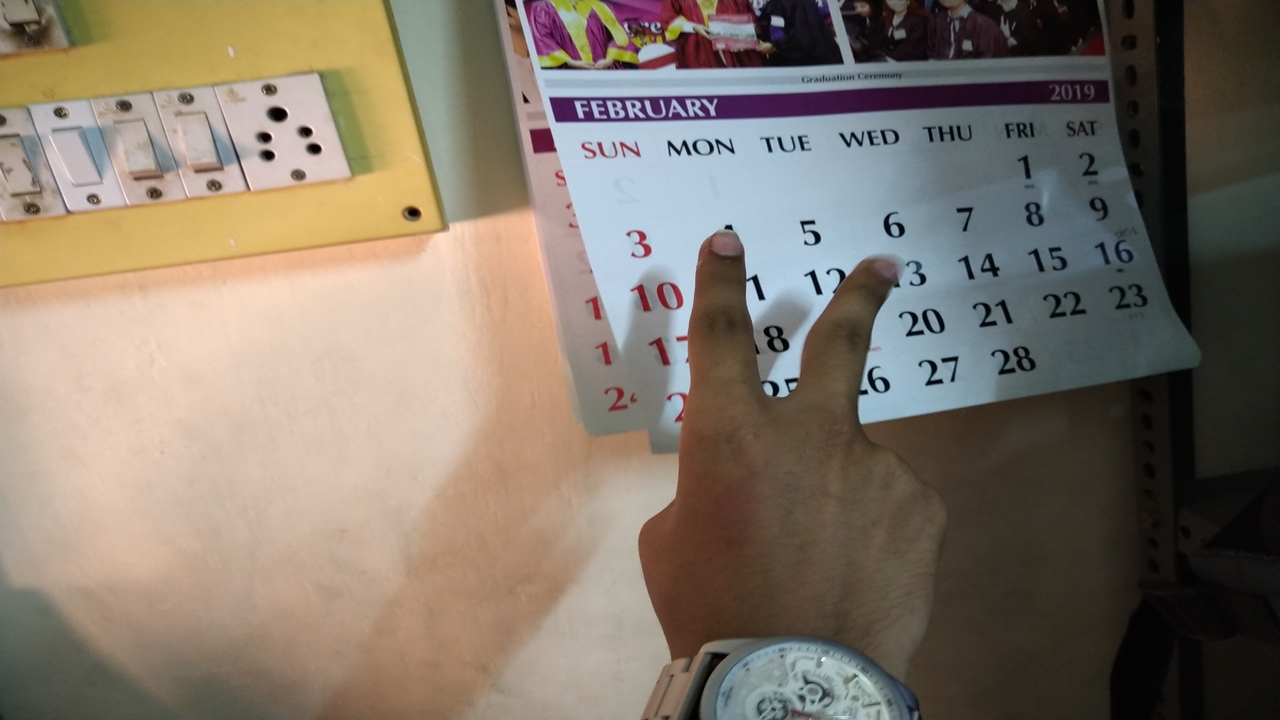fingertip: (842, 248, 906, 304), (697, 228, 746, 269)
